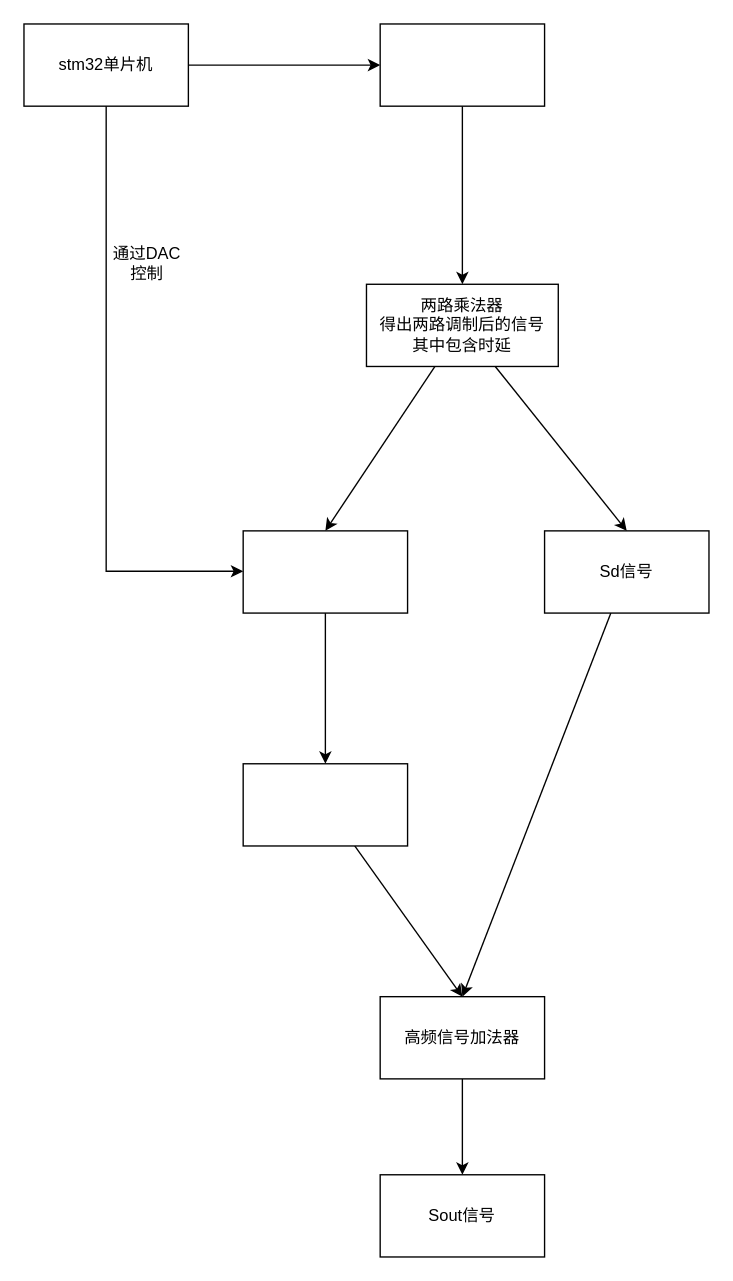
The diagram is 733 pixels wide and 1281 high, and some of its shapes have lost their labels. The centre of each missing label's shape, as x and y in pixels:
"4路dds" goes at pixel 462 64.
"Sm信号" goes at pixel 325 804.
"衰减电路" goes at pixel 325 571.
